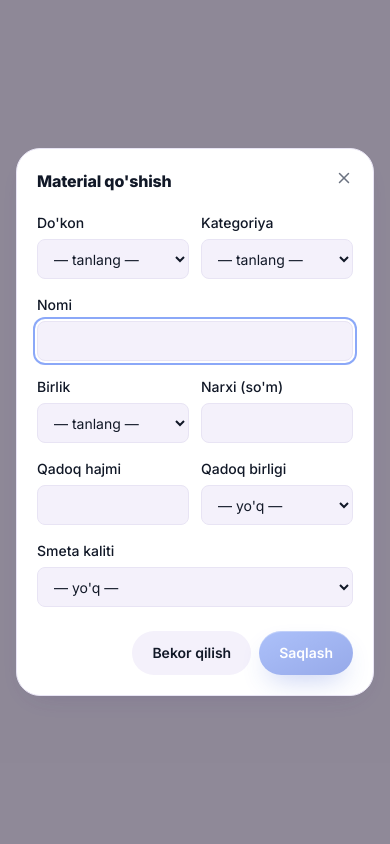
Test: MaterialFormDialog pack unit › fills the pack unit from the smeta key when it is empty
Select "Suvoq" in the dropdown labelled "Smeta kaliti" at (195, 587), box [37,567,353,607]
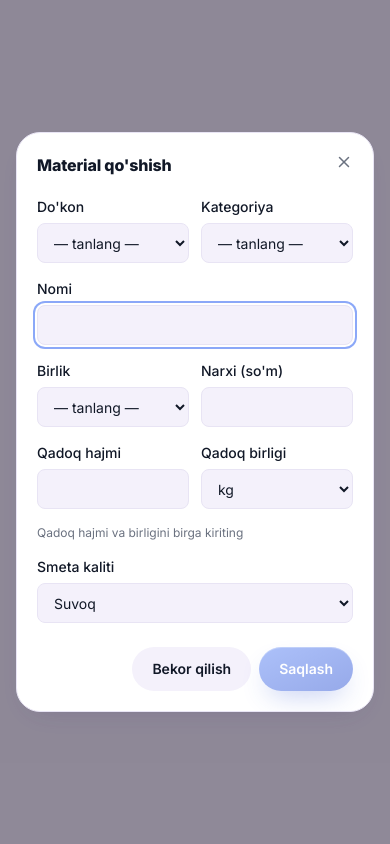
Expected: the dropdown labelled "Qadoq birligi" shows "kg", [201,469,353,509]
